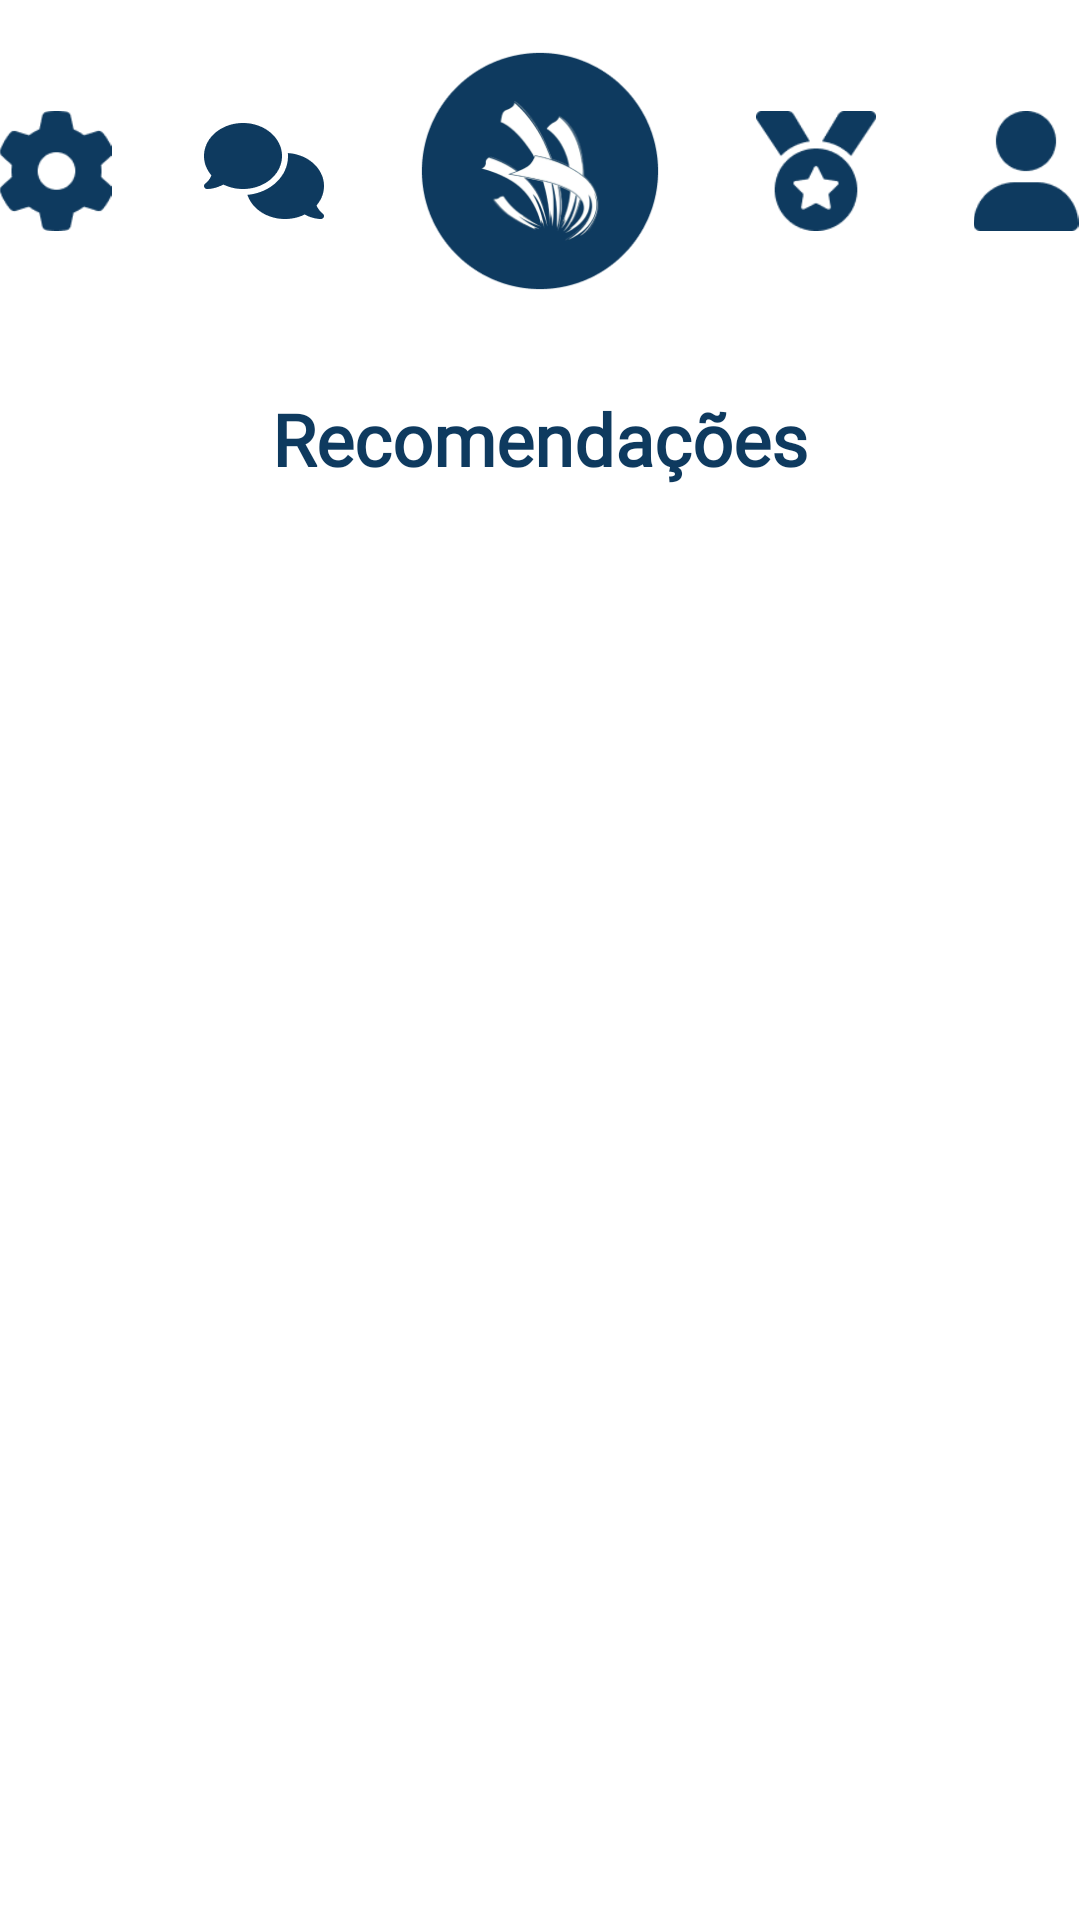

Icon bounding boxes for this 1080×1920 phone screenshot, format (x1, y1, x2, y2):
badges: (756, 111, 876, 231)
chat: (204, 123, 324, 219)
settings: (0, 111, 112, 231)
user: (974, 111, 1079, 231)
